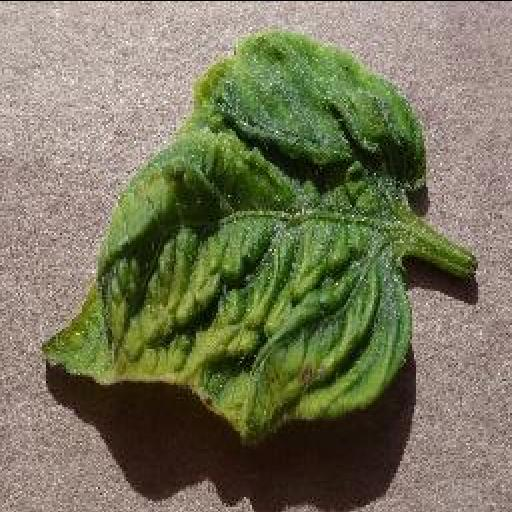disease_tomato: (40, 33, 430, 439)
